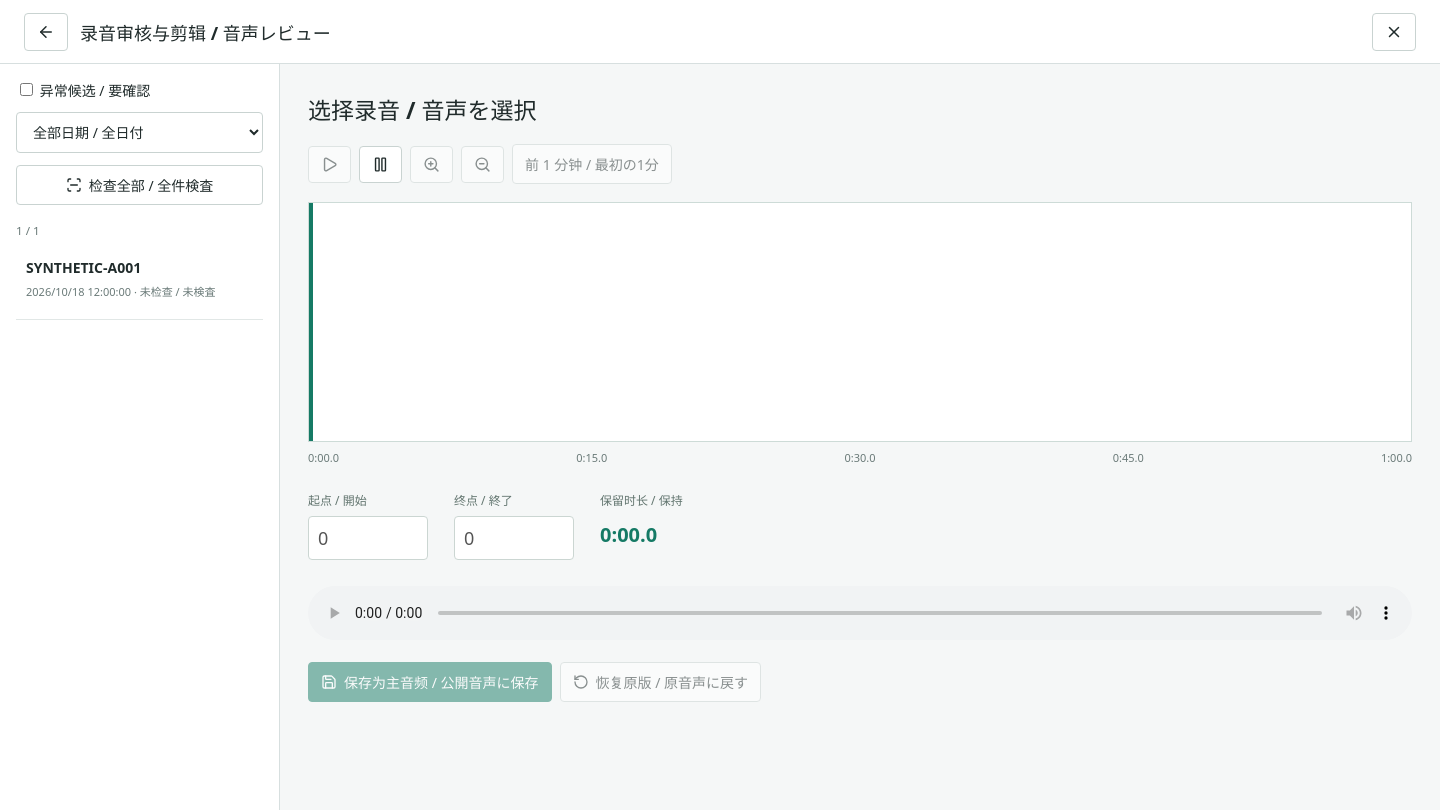
it: surfaces version conflicts and never claims a failed save succeeded
Click the button "SYNTHETIC-A001 2026/10/18 12:00:00 · 未检查 / 未検査" at [140, 282], box [16,244,263,320]
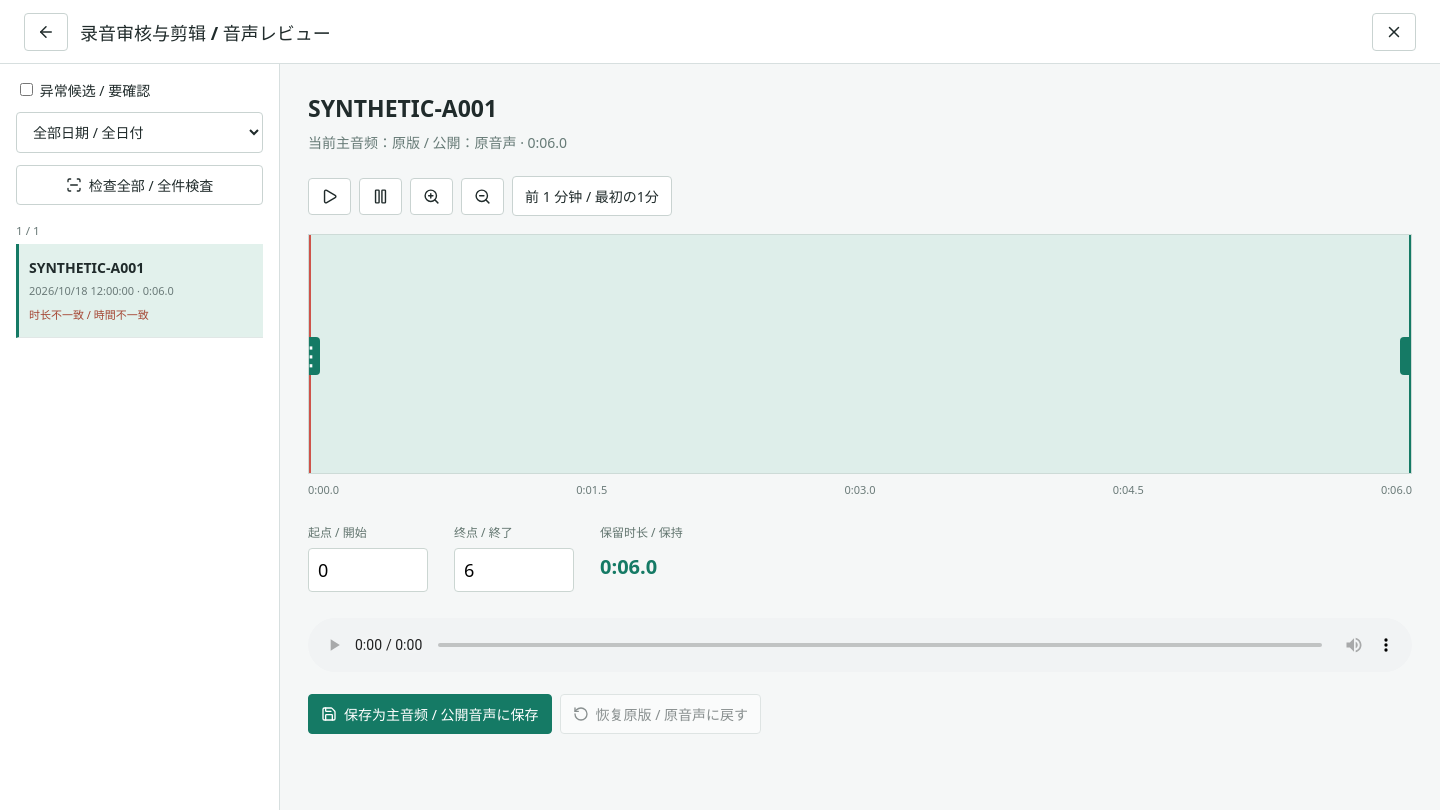
Expected: the button "保存为主音频 / 公開音声に保存" is enabled
Click the button "保存为主音频 / 公開音声に保存" at [430, 714], box [308,694,552,734]
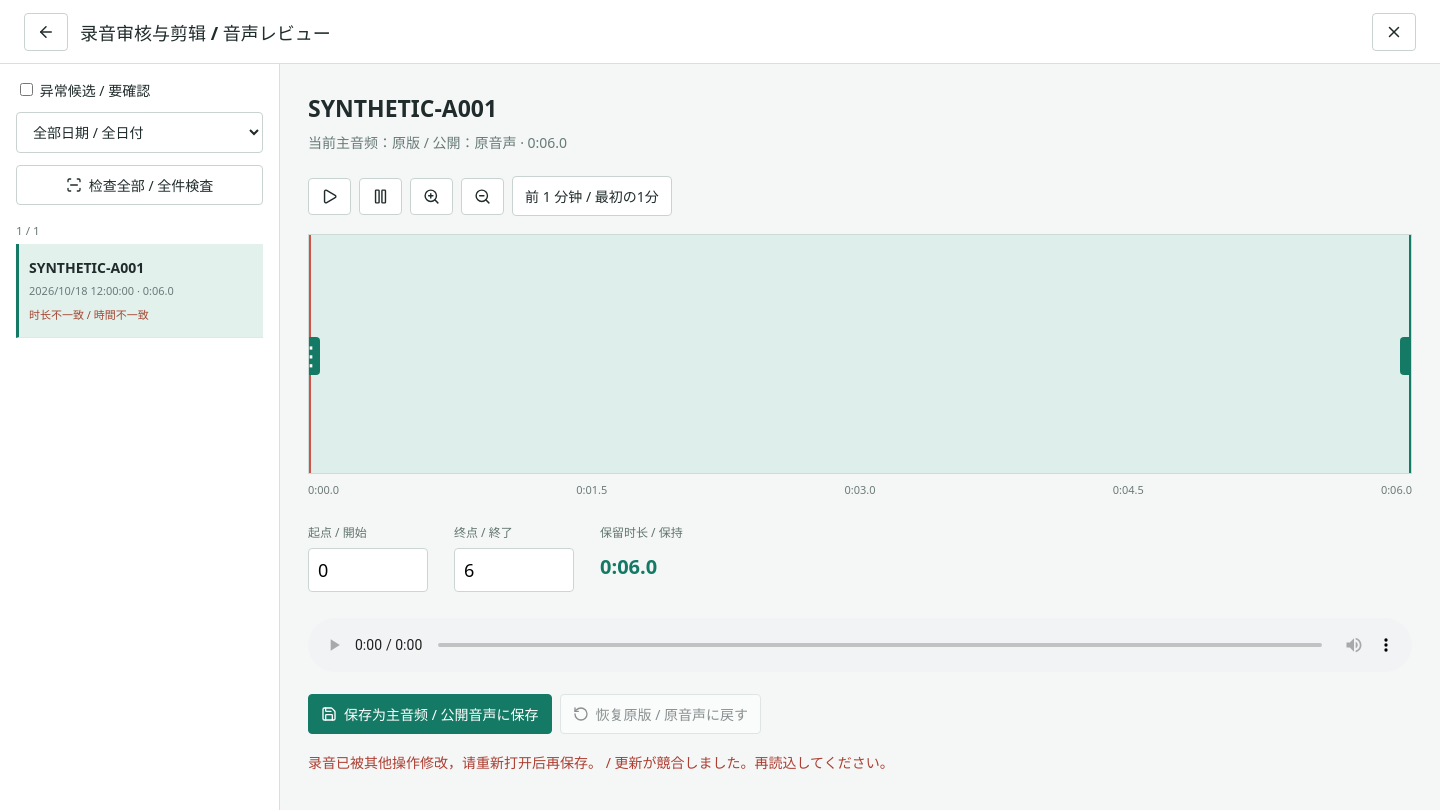
Expected: the message "录音已被其他操作修改，请重新打开后再保存。 / 更新が競合しました。再読込してください。" is shown, [308,753,894,772]
